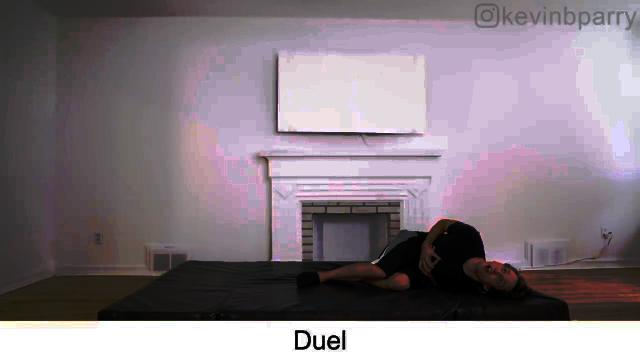jatuh: (286, 208, 536, 310)
